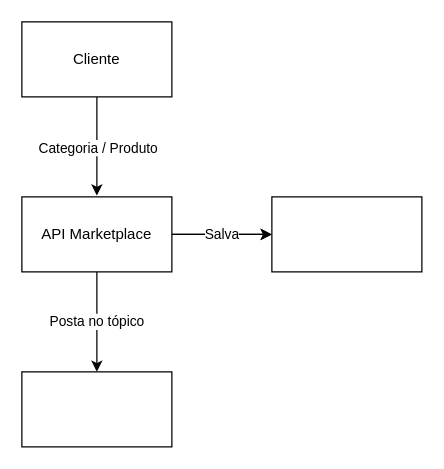
This 444x469 diagram has some shape labels left out. Here are the shapes that lost their labels. From the top down, the centre of each, then its label:
the point at 346,234: BD
the point at 96,409: SNS catalog-emit
